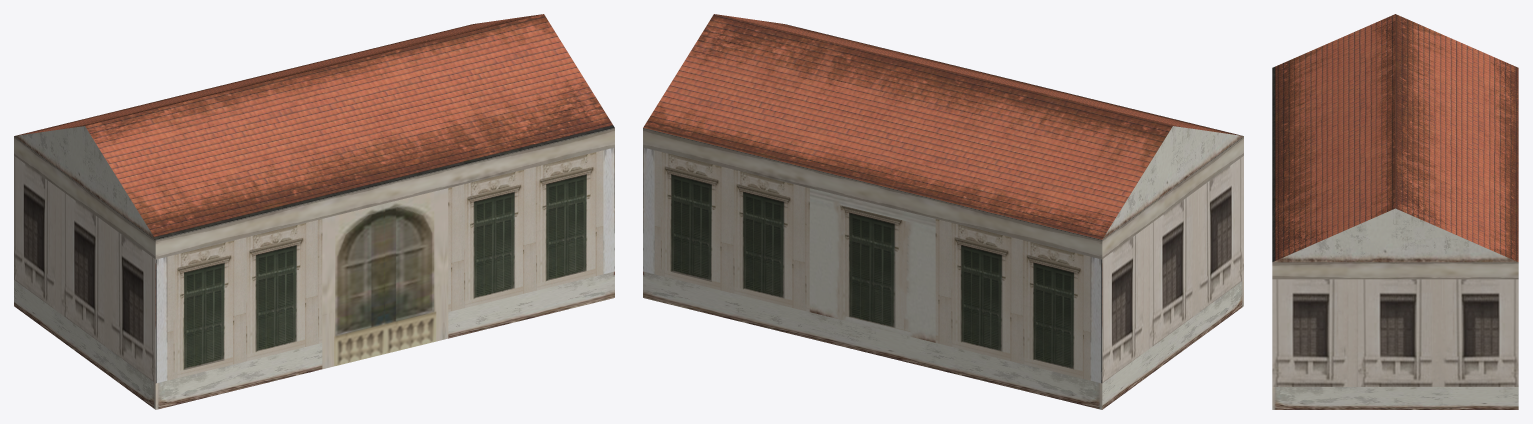
Rendered from SM_Building_Rich_03.fbx.
The picture shows the model from 3 angles, left to right: view 1: azimuth 30°, elevation 25°; view 2: azimuth 150°, elevation 25°; view 3: azimuth 270°, elevation 25°; orthographic projection. The views are drawn at different scales.
Parts seen in each view (by area): view 1: SM_Building_Rich_03; view 2: SM_Building_Rich_03; view 3: SM_Building_Rich_03.
Boxes of the visible parts, box(x1,y1,x2,y2) form: SM_Building_Rich_03: box(14, 14, 614, 409); SM_Building_Rich_03: box(643, 14, 1243, 409); SM_Building_Rich_03: box(1272, 14, 1518, 409).
Bounding box in the file's own units: 20.23 × 9.77 × 10.82.
